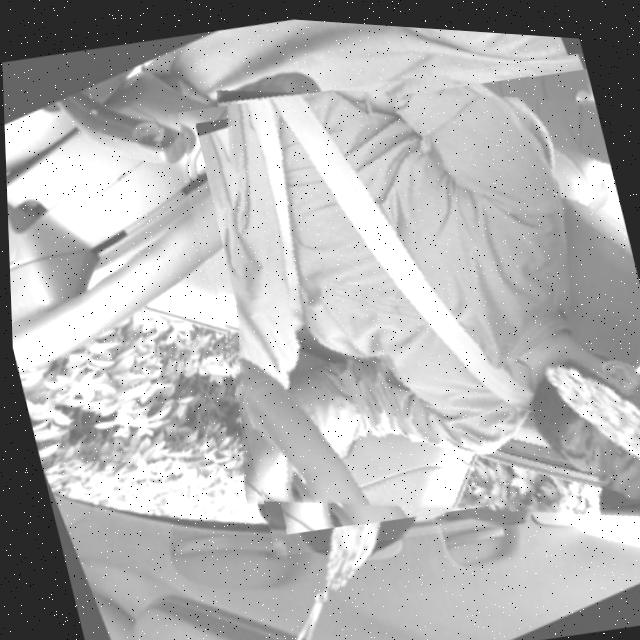seatbelt: (162, 21, 640, 572)
